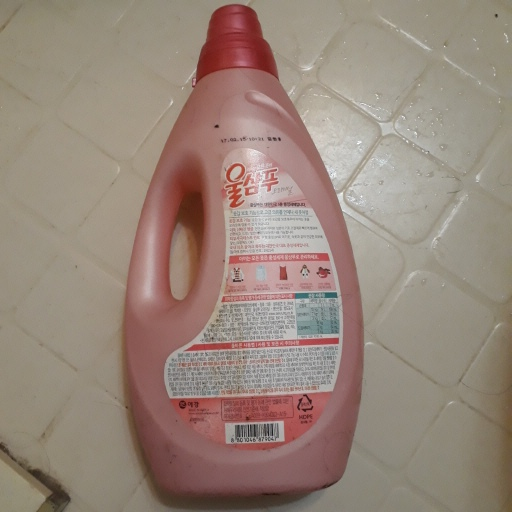Plastic_1: (125, 4, 364, 501)
